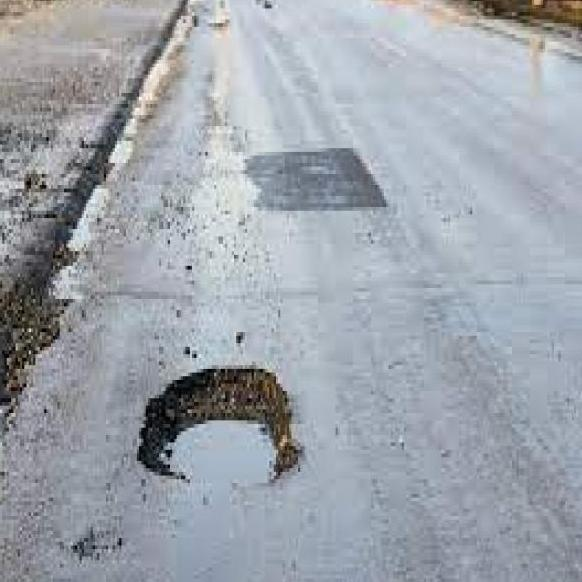pothole: (132, 357, 300, 498)
